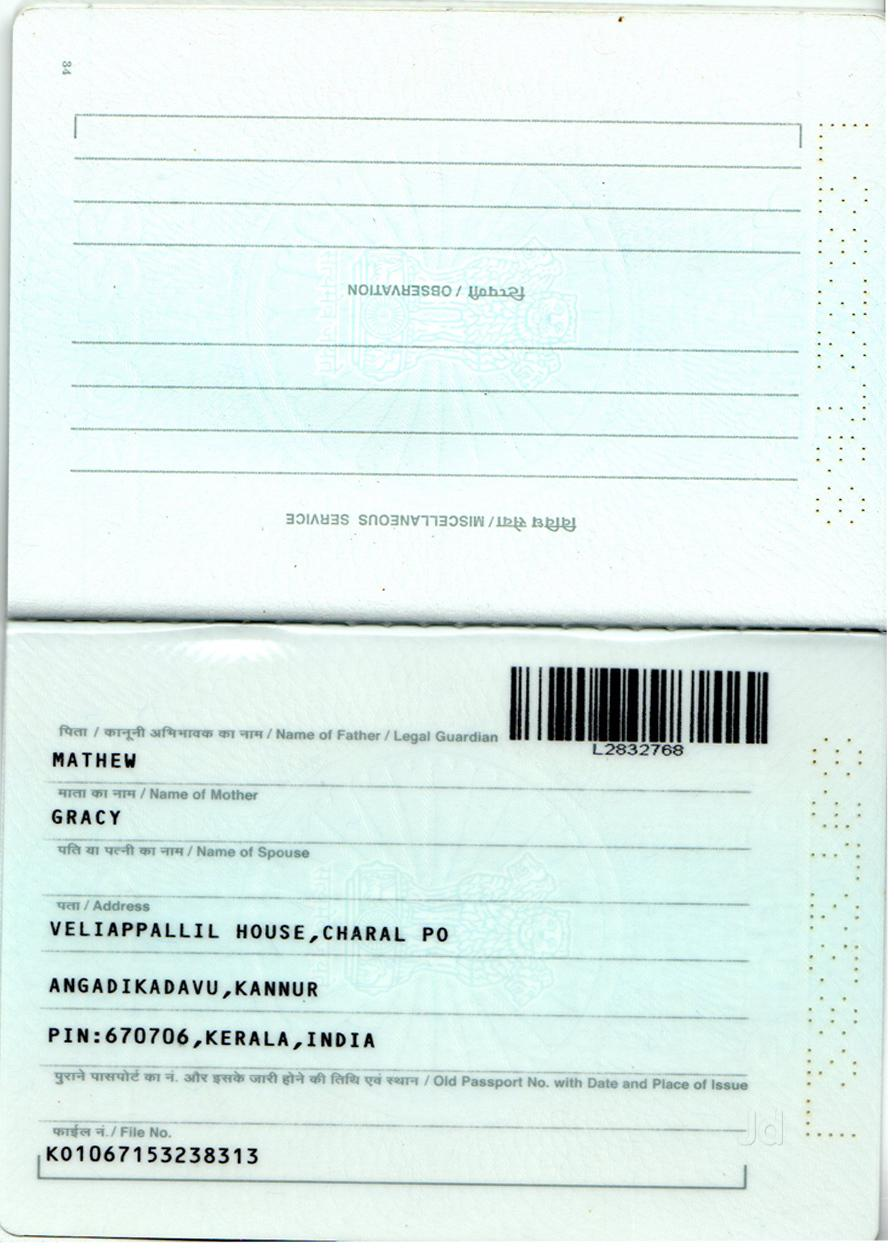File_no: (40, 1142, 266, 1180)
address: (38, 917, 466, 1060)
father_name: (42, 740, 156, 783)
mother_name: (25, 790, 142, 837)
passport_no: (588, 743, 690, 762)
